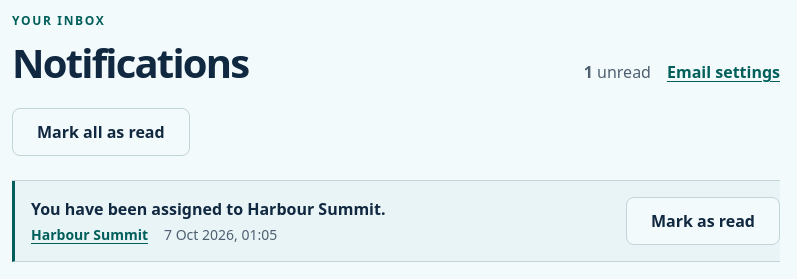
Test case: AC2 - marking notifications read › [QA-SPL-101-021] marking one read updates that notice and the unread count
Click the button "Mark as read" at (703, 221), box [626,197,780,245]
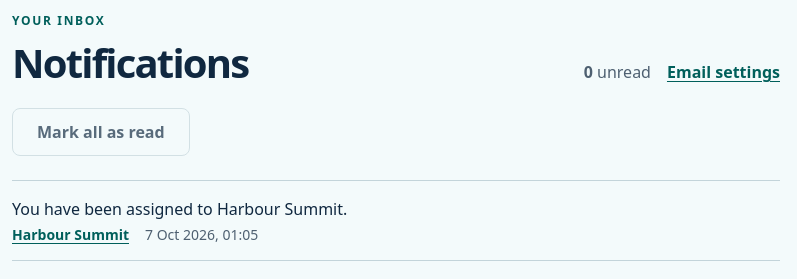
Expected: the message reads "0 unread", [584,61,651,83]
Expected: the button "Mark as read" is gone
